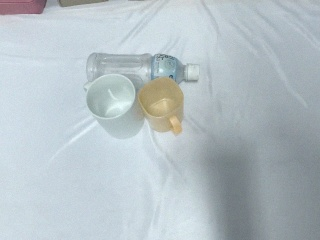bottle: (86, 52, 199, 88)
cup: (84, 74, 145, 140), (137, 77, 184, 136)
